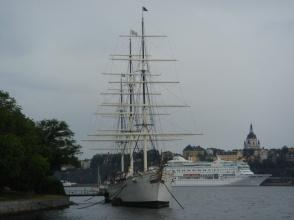fanchuan: (93, 5, 188, 205)
youlun: (172, 157, 267, 186)
